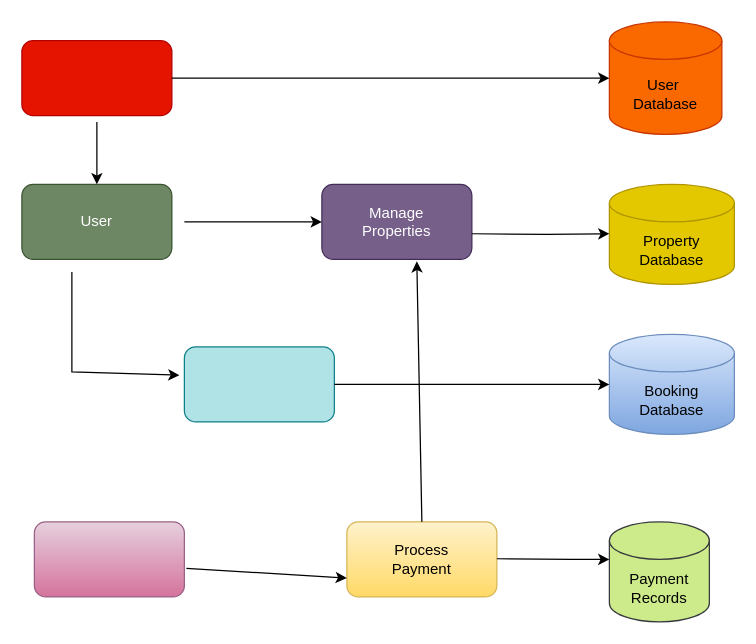
The diagram is 756 pixels wide and 644 high, and some of its shapes have lost their labels. Here are the shapes that lost their labels. From the top down, the box of each, then its label:
(21, 39, 172, 116): Register/Login
(183, 346, 334, 422): Search Property
(33, 521, 184, 597): Host
